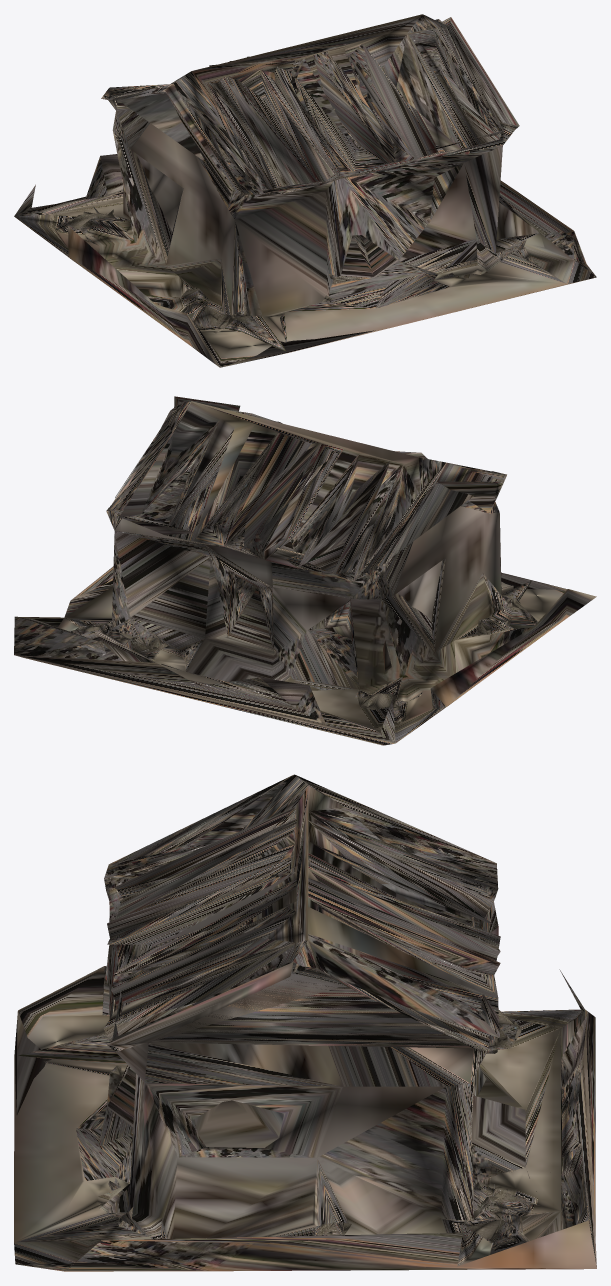
File: bq_bookstore.lod2.glb
3 views of the same model, one above another, from view 1: azimuth 30°, elevation 25°; view 2: azimuth 150°, elevation 25°; view 3: azimuth 270°, elevation 25° (orthographic). The views are drawn at different scales.
Size of the model in its own units: 1.9 by 0.9512 by 1.79.
1 material, 1 textured.
